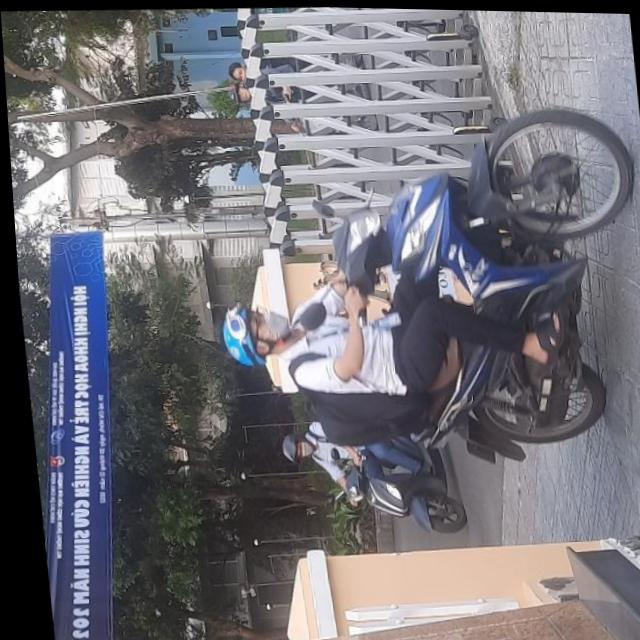WITH_HELMET: (209, 300, 263, 369)
